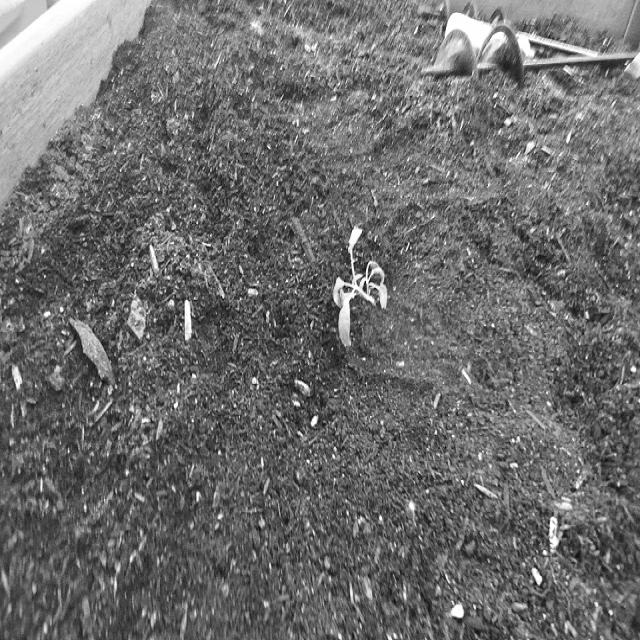Healthy: (325, 221, 394, 346)
